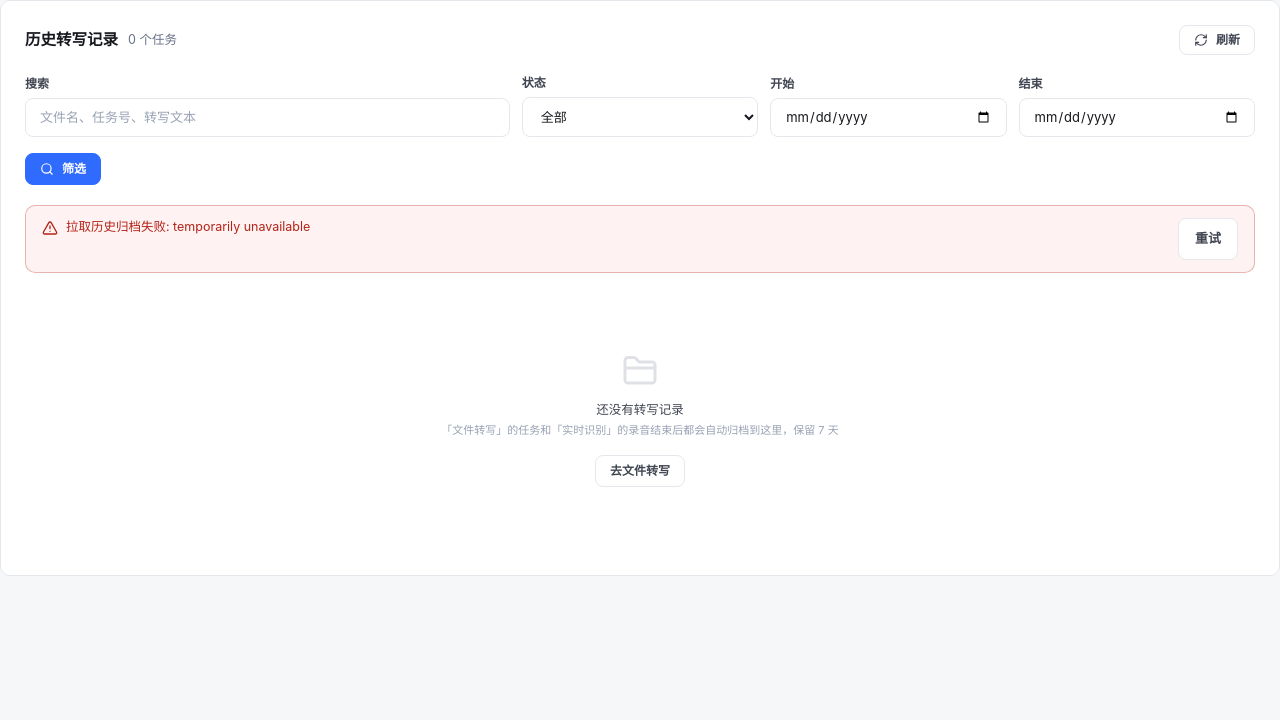
Test: <HistoryView /> item actions › shows a recoverable error when history fails and retries on request
This screenshot has width=1280, height=720.
Expected: the message shows "拉取历史归档失败", [66,219,310,234]
Click the button "重试".
click(1208, 239)  # box [1178,218,1238,260]
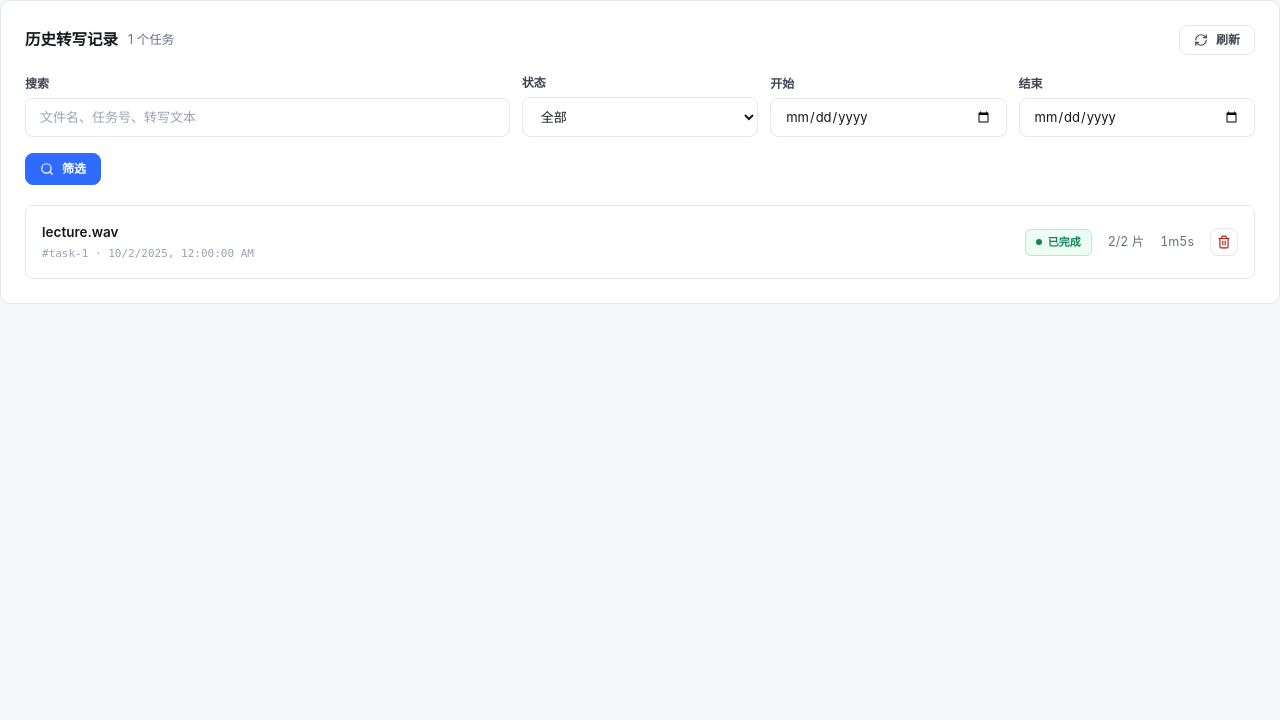
Now the button with aria-label "打开任务：lecture.wav" is shown, box [42,222,1009,262]
Now the message "拉取历史归档失败: temporarily unavailable 重试" is gone
